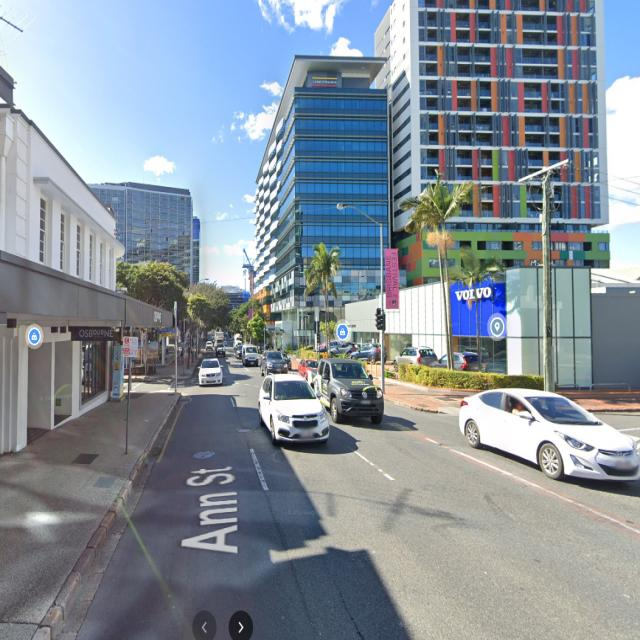crossarm: (516, 159, 572, 184)
light pole: (336, 200, 388, 393)
steel-pole: (380, 220, 384, 394), (174, 301, 177, 394), (145, 328, 147, 378)
streetlight: (336, 203, 383, 228)
timber-pole: (541, 165, 555, 394)
traffic-light: (375, 306, 386, 331), (148, 332, 151, 344)
